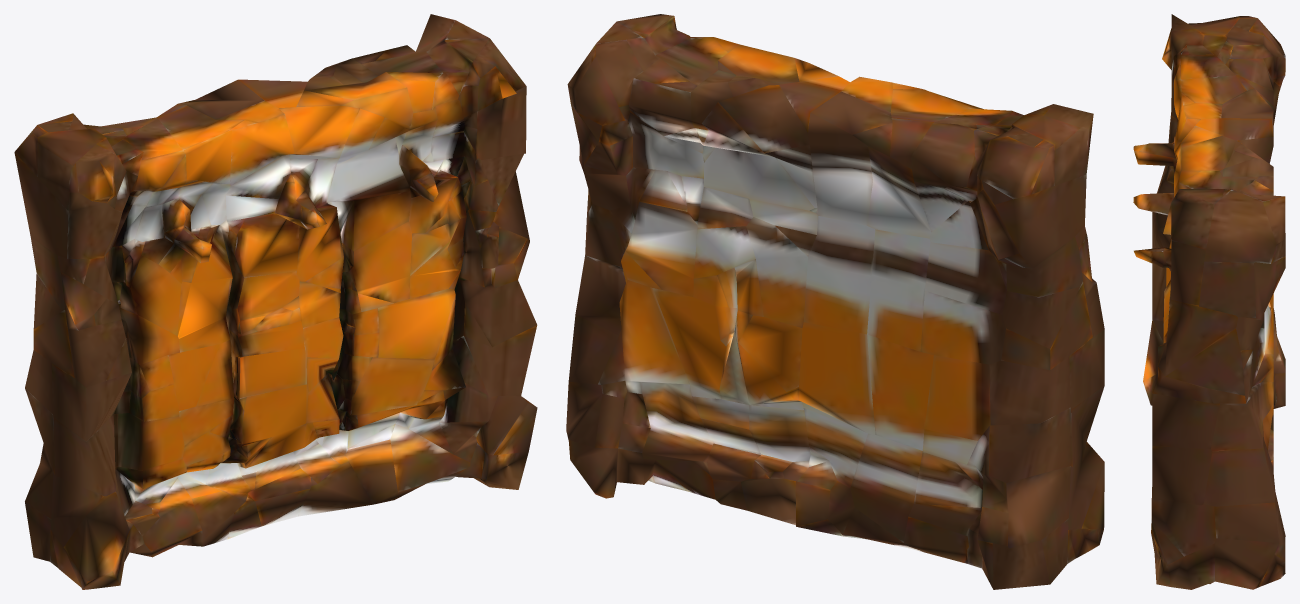
The model's file is quest-board.glb.
3 renders of one model, left to right at view 1: azimuth 30°, elevation 25°; view 2: azimuth 150°, elevation 25°; view 3: azimuth 270°, elevation 25°, orthographic. The views are drawn at different scales.
Visible parts, largest first — view 1: Mesh_0.002; view 2: Mesh_0.002; view 3: Mesh_0.002.
Boxes of the visible parts, box(x1,y1,x2,y2) form: Mesh_0.002: box(14, 14, 537, 589); Mesh_0.002: box(566, 14, 1104, 589); Mesh_0.002: box(1133, 14, 1285, 589).
Bounding box in the file's own units: 0.868 × 0.7861 × 0.2838.
Materials: 1 (1 with a texture image).
